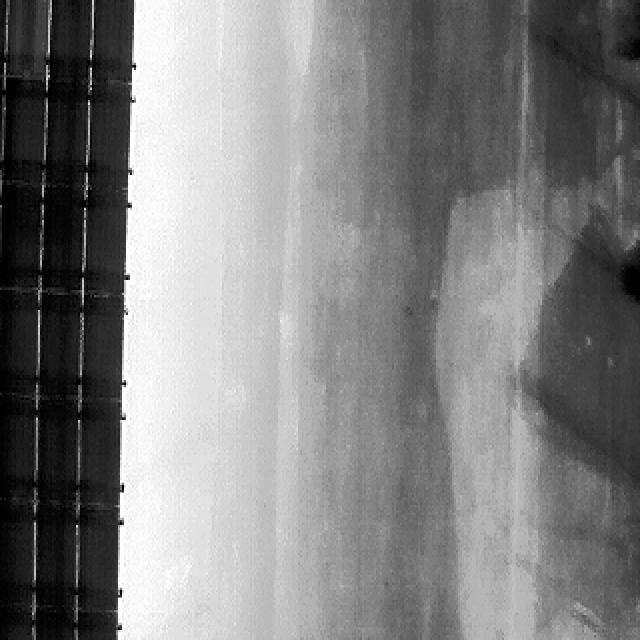Hotspots: (30, 0, 50, 82), (8, 0, 26, 82)
PV-modules: (86, 82, 131, 194), (45, 80, 91, 188), (37, 396, 81, 506), (74, 508, 120, 613), (78, 397, 122, 506), (80, 296, 126, 400), (38, 295, 83, 400), (1, 81, 45, 187), (33, 503, 76, 611), (41, 192, 85, 297), (83, 194, 127, 294), (0, 183, 41, 290), (0, 292, 38, 400), (0, 396, 37, 502), (0, 499, 35, 609), (88, 0, 134, 80), (48, 0, 94, 78), (2, 0, 48, 78), (32, 610, 74, 640), (74, 613, 120, 640), (0, 606, 34, 639)
